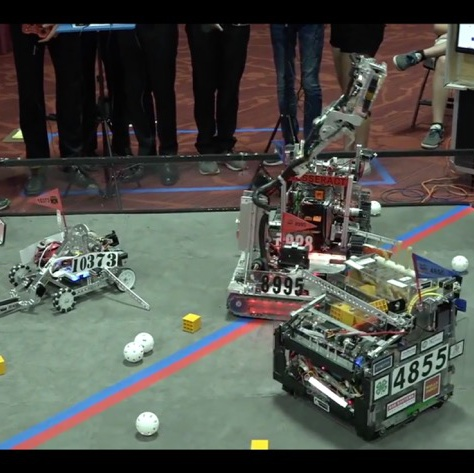robot: (223, 53, 391, 327), (270, 245, 472, 444), (5, 187, 157, 313)
